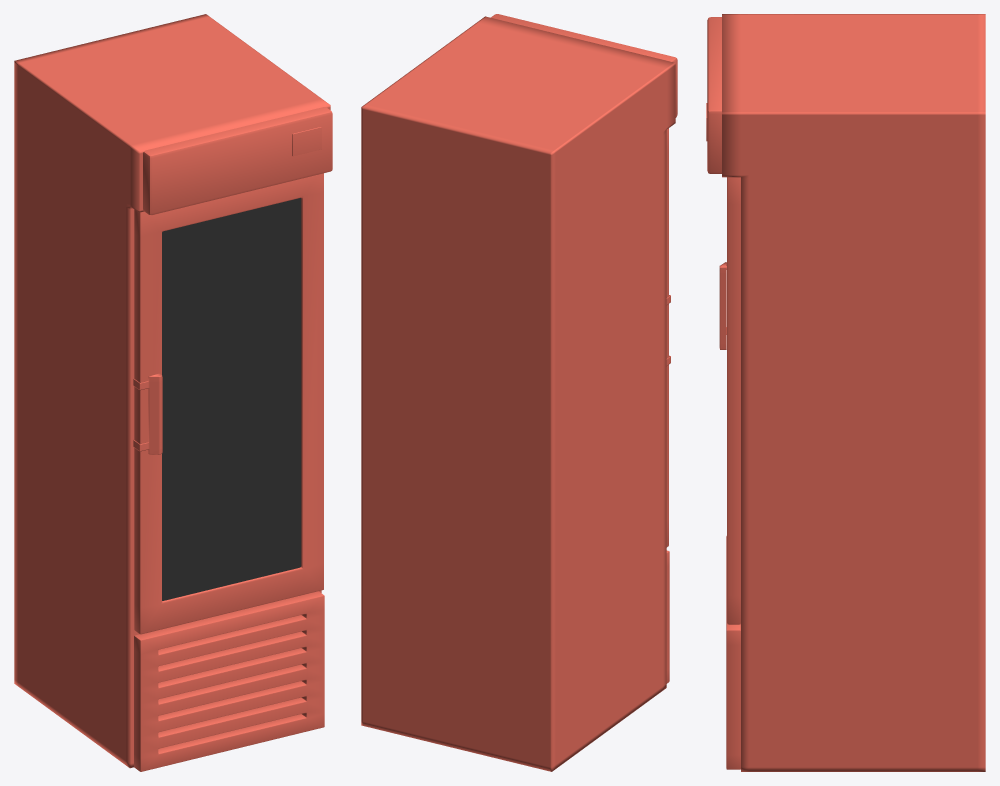
File: Drink_refrigerator.fbx
3 views of the same model, side by side, from view 1: azimuth 30°, elevation 25°; view 2: azimuth 150°, elevation 25°; view 3: azimuth 270°, elevation 25° (orthographic). The views are drawn at different scales.
Visible parts, largest first — view 1: refrigerator, refrigerator_glass, refrigerator _Door; view 2: refrigerator, refrigerator _Door; view 3: refrigerator, refrigerator _Door.
Boxes of the visible parts, bbox=[...] form: refrigerator: bbox=[14, 14, 332, 771]; refrigerator_glass: bbox=[162, 198, 301, 600]; refrigerator _Door: bbox=[133, 173, 323, 634]; refrigerator: bbox=[361, 14, 677, 771]; refrigerator _Door: bbox=[666, 128, 670, 547]; refrigerator: bbox=[706, 14, 985, 771]; refrigerator _Door: bbox=[719, 177, 740, 624].
Size of the model in its own units: 0.68 by 2.11 by 0.811.
